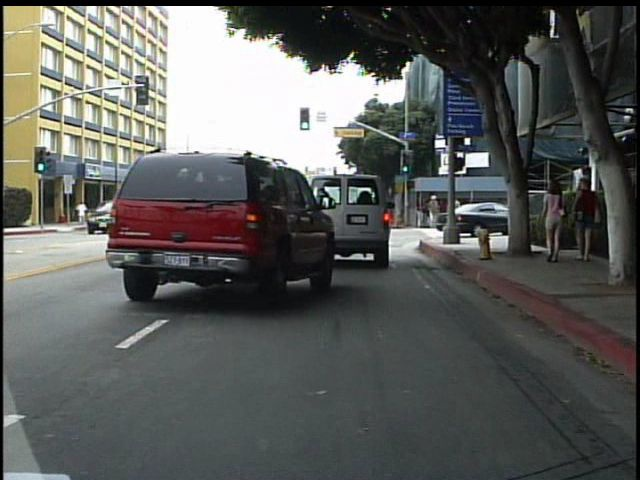person: (573, 173, 605, 265), (540, 174, 571, 265), (427, 191, 442, 228), (75, 198, 91, 228)
